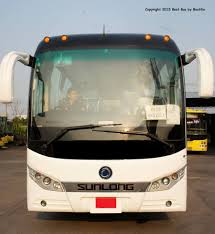bus: (27, 32, 188, 214)
